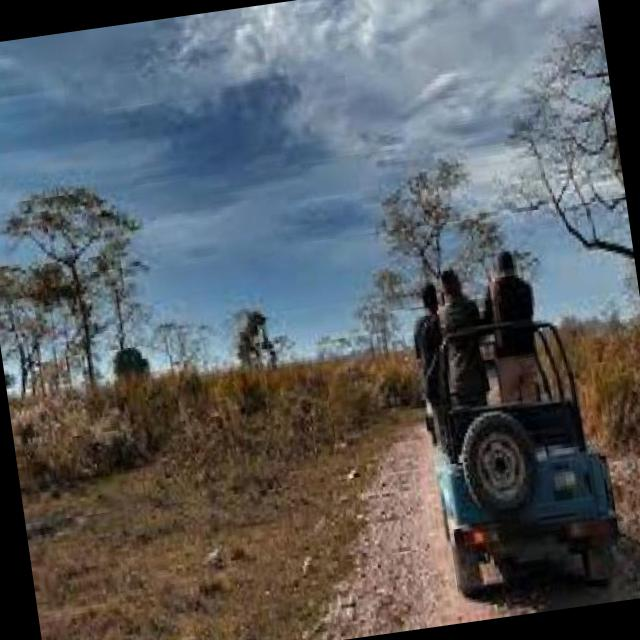ranger: (368, 225, 588, 462)
